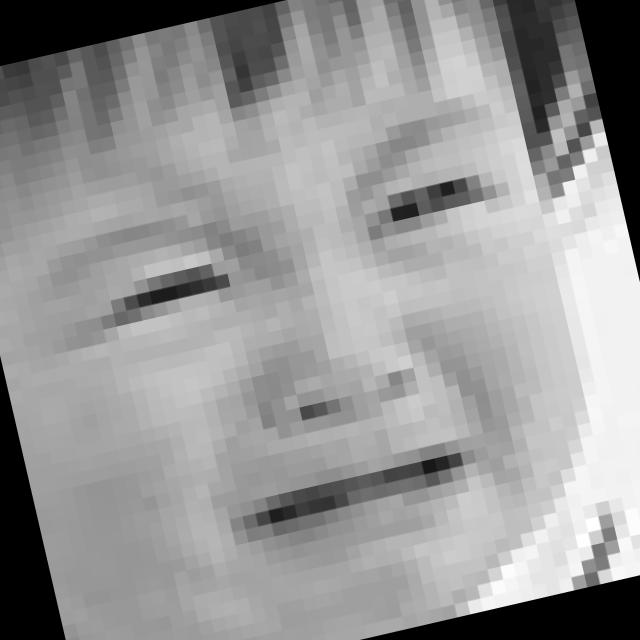sad: (22, 85, 577, 604)
